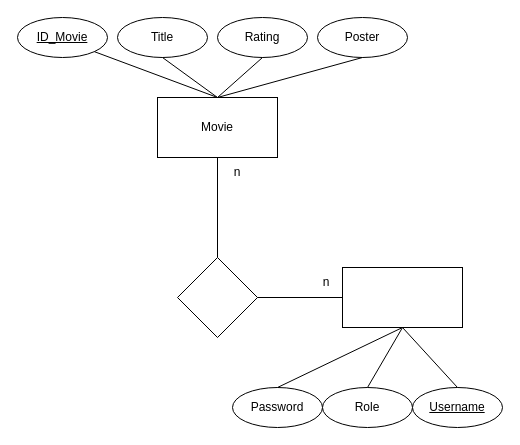
Some shapes in this 520 by 445 pixel diagram are drawn without their labels. Here are the shapes that lost their labels. From the top down, the centre of each, then its label:
At pixel 217 297: "Watchlist".
At pixel 402 297: "User".
